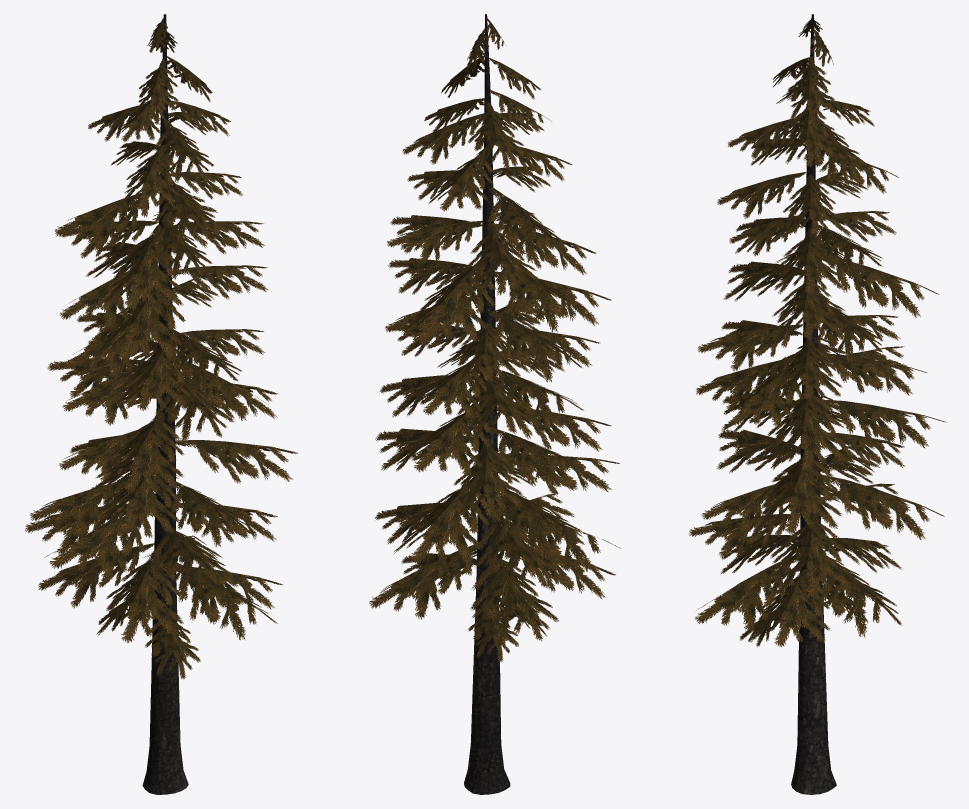
File: pine_tree_n_1.obj
3 renders of one model, left to right at view 1: azimuth 30°, elevation 25°; view 2: azimuth 150°, elevation 25°; view 3: azimuth 270°, elevation 25°, orthographic.
Parts seen in each view (by area): view 1: pine_tree_n_1_branches, pine_tree_n_1; view 2: pine_tree_n_1_branches, pine_tree_n_1; view 3: pine_tree_n_1_branches, pine_tree_n_1.
Part boxes in pixels (x1,y1,x2,y2): pine_tree_n_1_branches: (25,18,297,679); pine_tree_n_1: (142,14,188,794); pine_tree_n_1_branches: (369,18,620,661); pine_tree_n_1: (464,14,510,794); pine_tree_n_1_branches: (689,18,946,647); pine_tree_n_1: (791,14,836,794).
Size of the model in its own units: 3.66 by 10.11 by 3.36.
